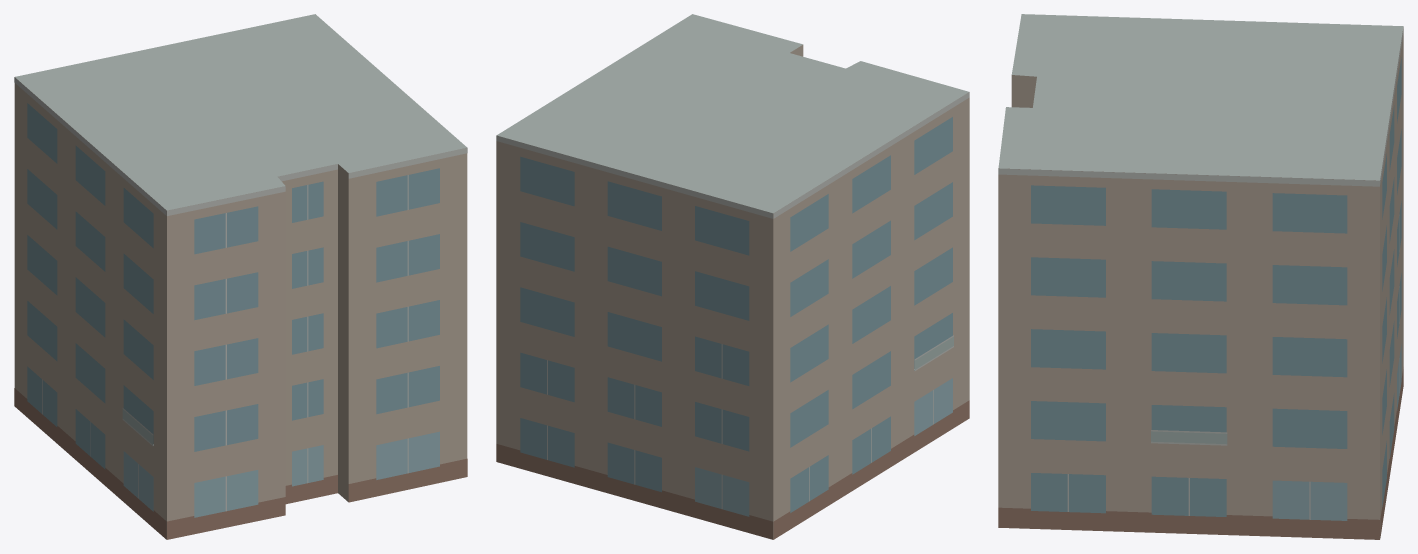
File: survey-upis-32850258.glb
The picture shows the model from 3 angles, left to right: view 1: azimuth 30°, elevation 25°; view 2: azimuth 150°, elevation 25°; view 3: azimuth 270°, elevation 25°; orthographic projection. The views are drawn at different scales.
Parts seen in each view (by area): view 1: survey-upis-32850258.tmp; view 2: survey-upis-32850258.tmp; view 3: survey-upis-32850258.tmp.
Boxes of the visible parts, x1,y1,x2,y2 form: survey-upis-32850258.tmp: (14, 14, 467, 539); survey-upis-32850258.tmp: (496, 14, 969, 539); survey-upis-32850258.tmp: (998, 14, 1403, 539).
Size of the model in its own units: 14.23 by 14.3 by 14.62.
